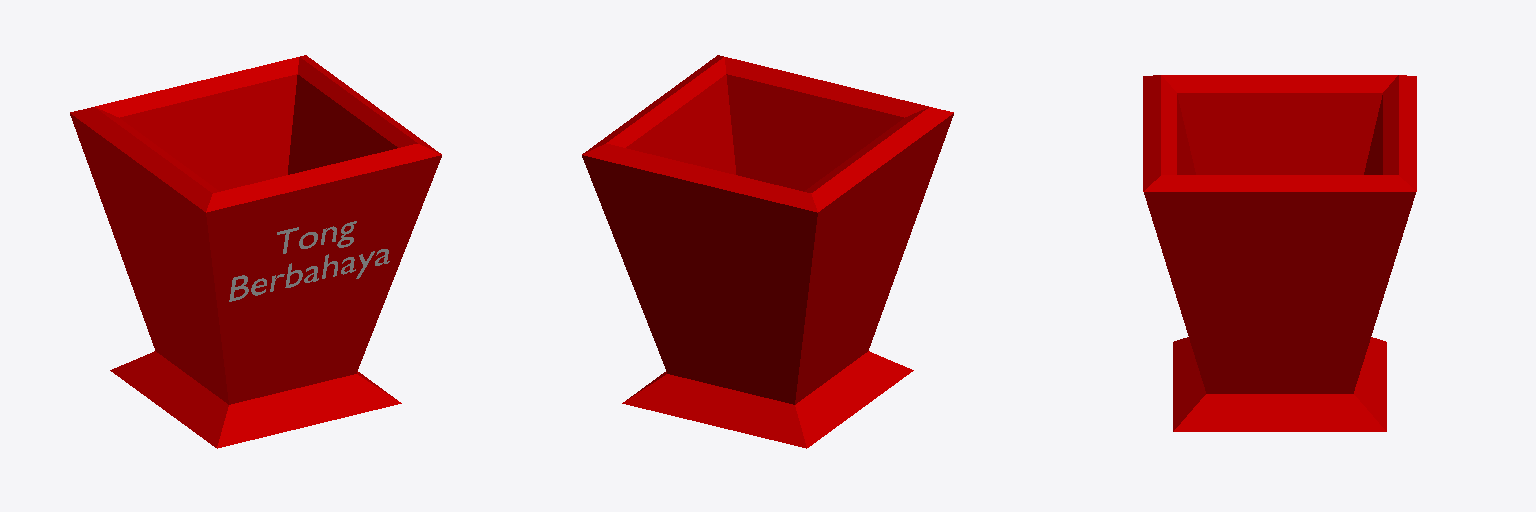
The model's file is sampahberbahaya.obj.
The picture shows the model from 3 angles: view 1: azimuth 30°, elevation 25°; view 2: azimuth 150°, elevation 25°; view 3: azimuth 270°, elevation 25°; orthographic projection.
Visible parts, largest first — view 1: Cube, Text; view 2: Cube; view 3: Cube.
Part boxes in pixels (bbox=[...]): Cube: bbox=[70, 55, 441, 448]; Text: bbox=[229, 221, 389, 301]; Cube: bbox=[582, 55, 953, 448]; Cube: bbox=[1143, 75, 1416, 431].
Bounding box in the file's own units: 3 × 3.17 × 3.